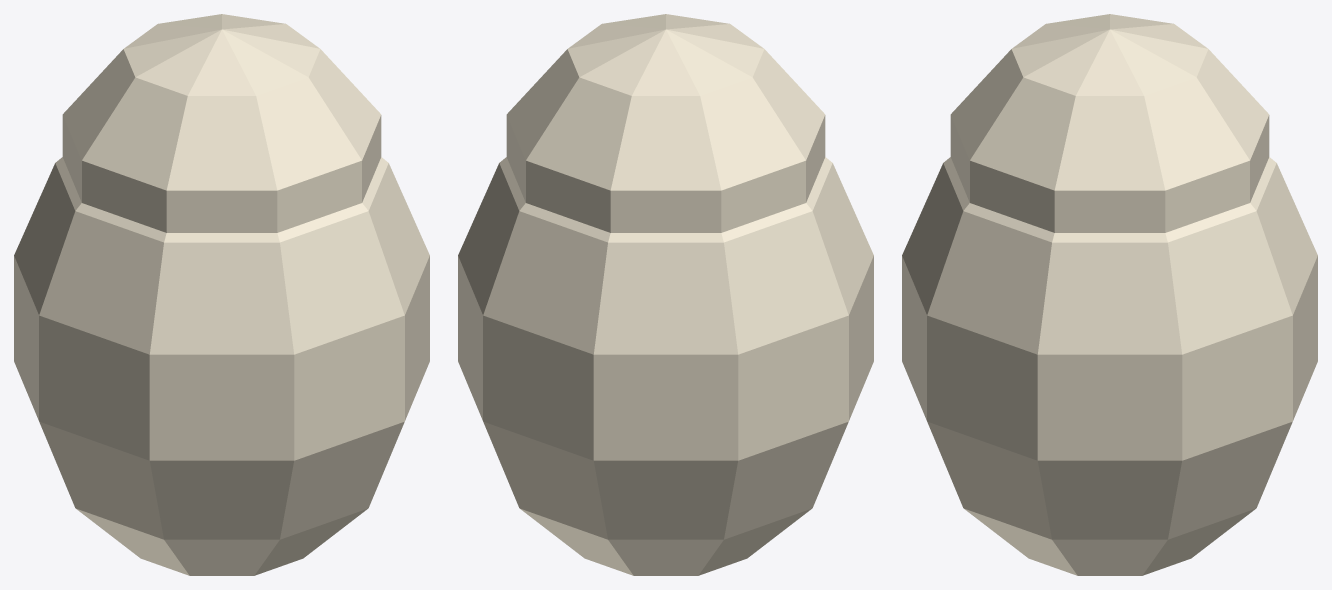
The model's file is rally_egg.glb.
The picture shows the model from 3 angles, left to right: view 1: azimuth 30°, elevation 25°; view 2: azimuth 150°, elevation 25°; view 3: azimuth 270°, elevation 25°; orthographic projection.
Visible parts, largest first — view 1: egg_egg_shell; view 2: egg_egg_shell; view 3: egg_egg_shell.
Part boxes in pixels (x1,y1,x2,y2): egg_egg_shell: [14, 14, 429, 575]; egg_egg_shell: [458, 14, 873, 575]; egg_egg_shell: [902, 14, 1317, 575].
Bounding box in the file's own units: 0.0529 × 0.076 × 0.0538.
